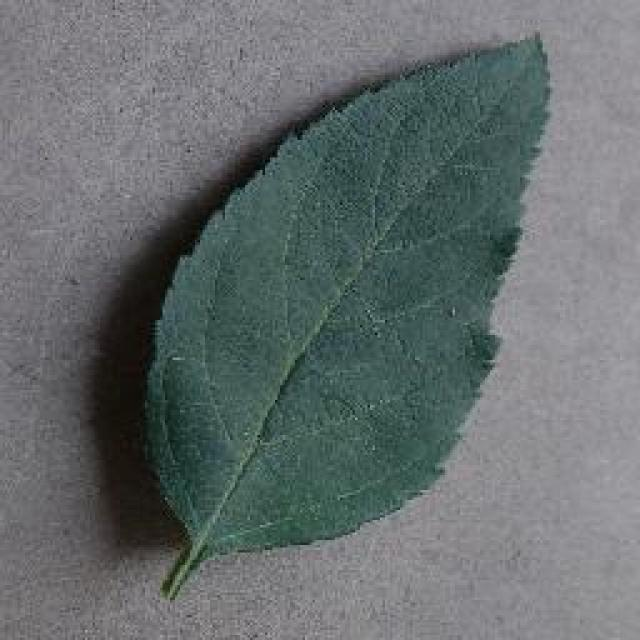apple healthy: (135, 28, 555, 600)
